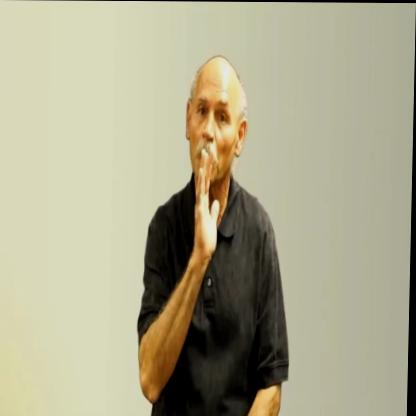Talk: (175, 48, 253, 266)
